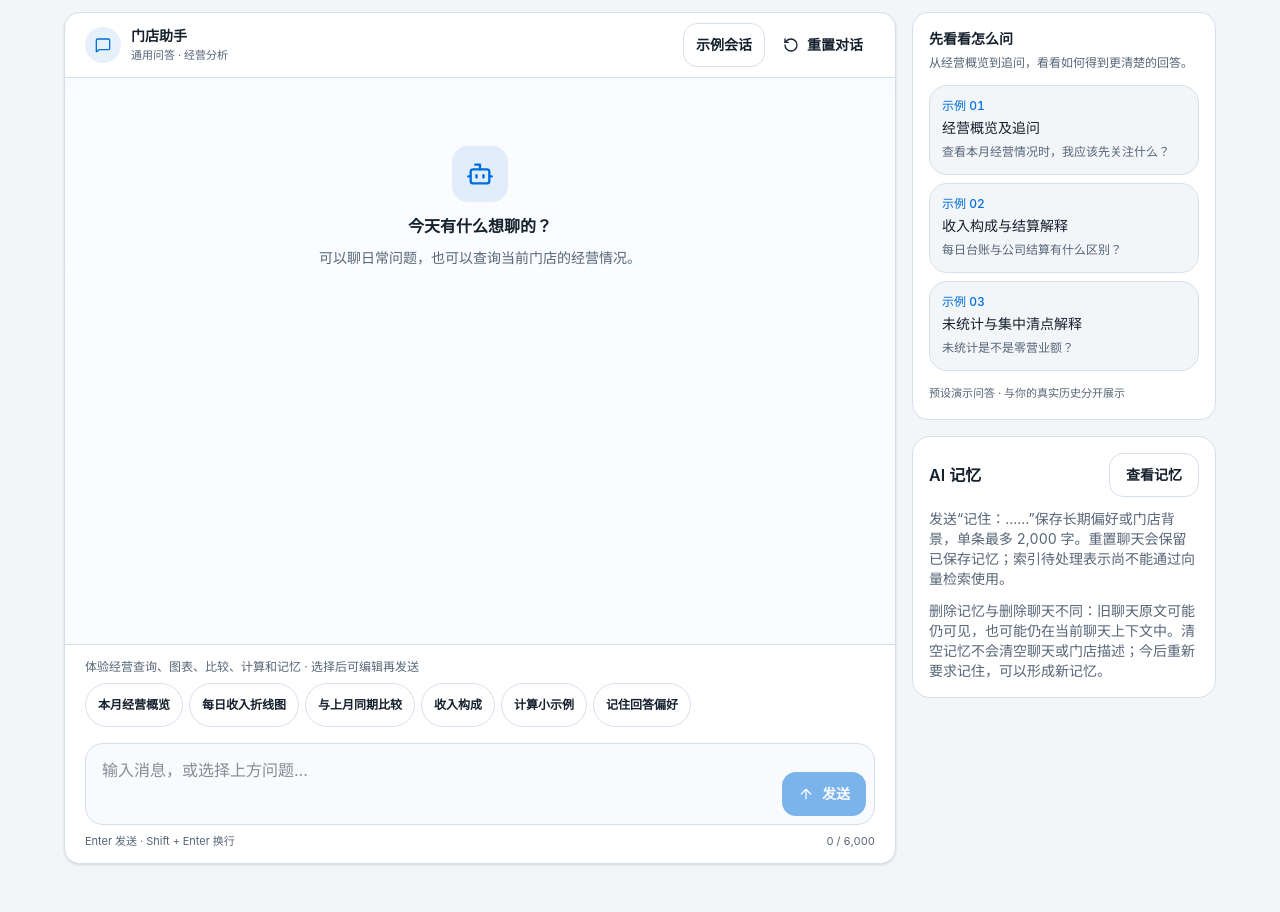
Test: AI conversation › explains invalid memory proposals and keeps the original failure record
Click the button "查看记忆" at (1154, 475), box [1109,453,1199,497]
(page scrolled)
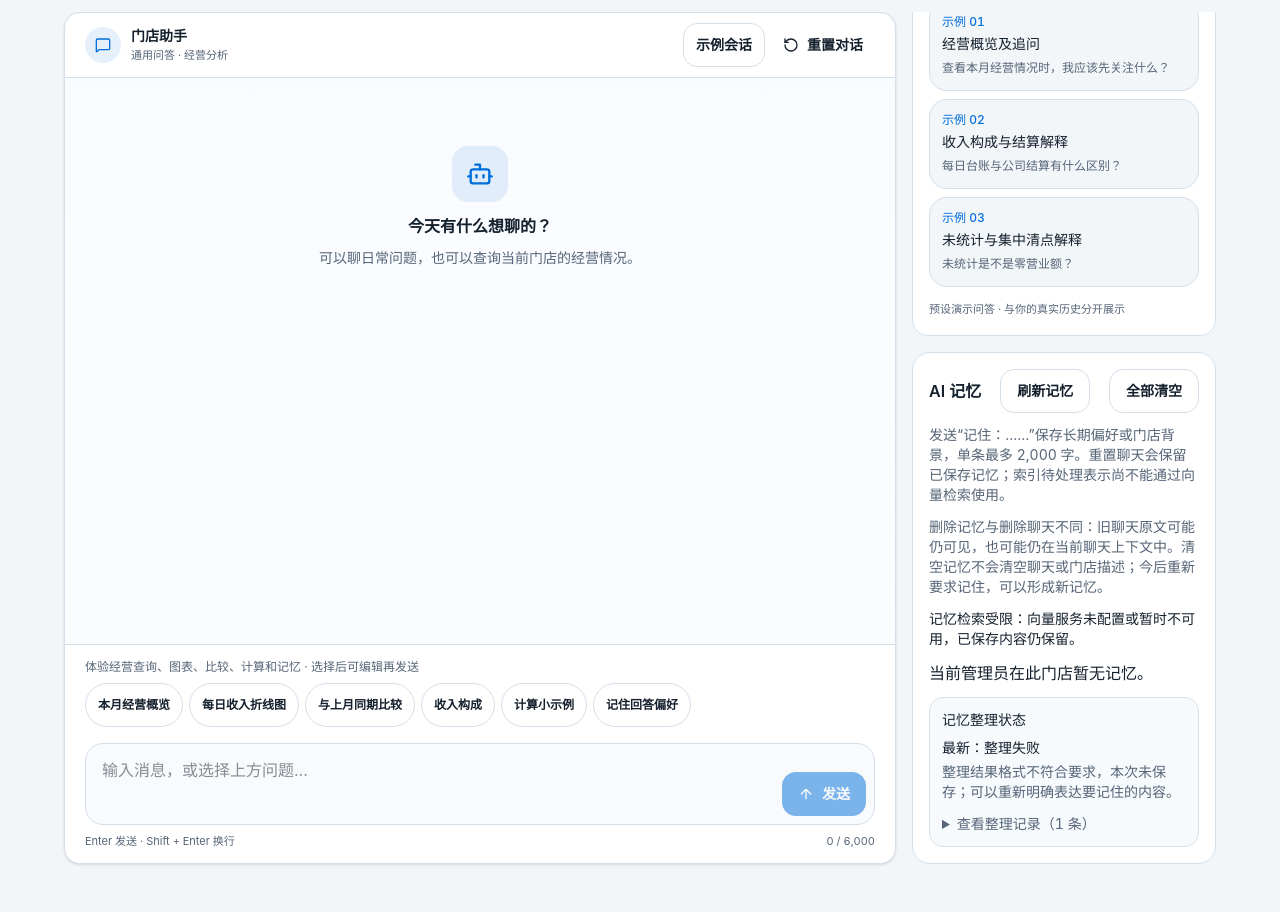
Check: the text "最新：整理失败" is shown, box [942,739,1040,756]
Check: the text "整理结果格式不符合要求，本次未保存；可以重新明确表达要记住的内容。" is shown, box [942,762,1186,802]
Click the heading "查看整理记录（1 条）" at (1026, 824), box [957,815,1096,832]
(page scrolled)
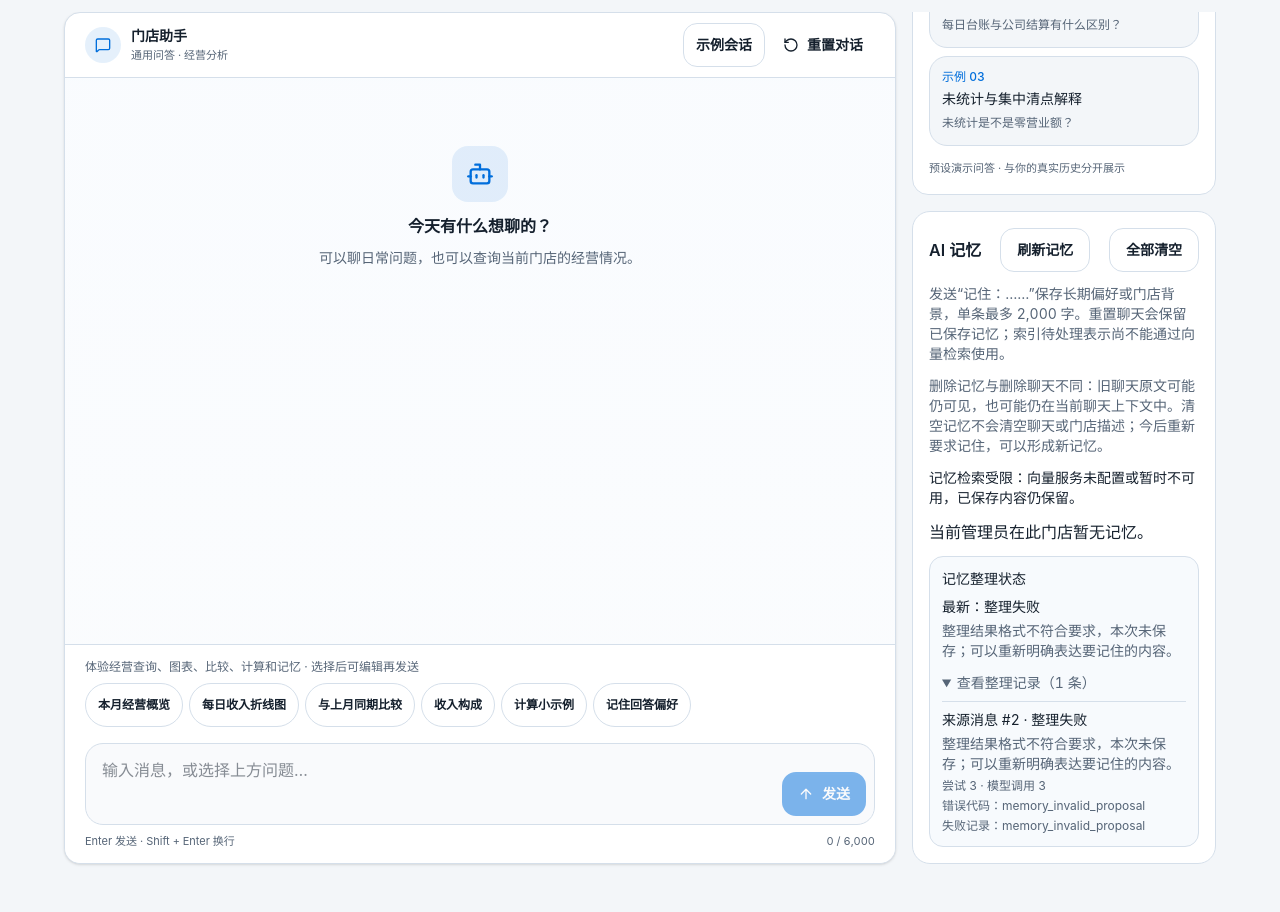
Check: the text "失败记录：memory_invalid_proposal" is shown, box [942,818,1145,833]
